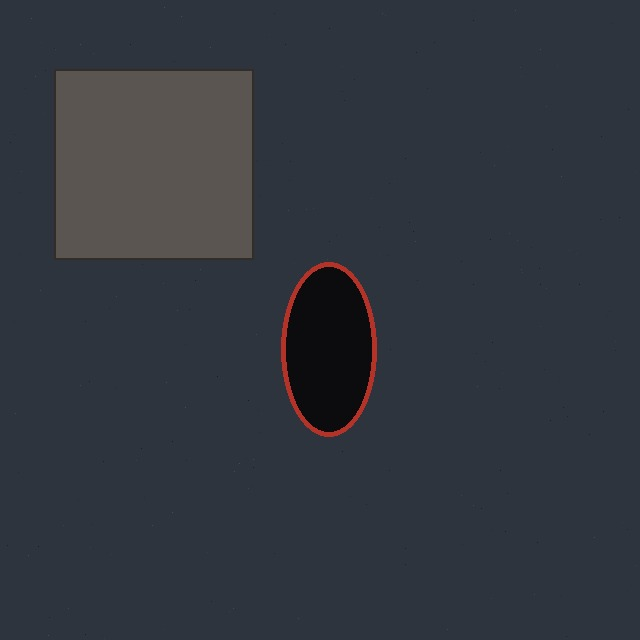concrete_damage: (54, 69, 253, 259)
open_manhole: (281, 262, 376, 436)
